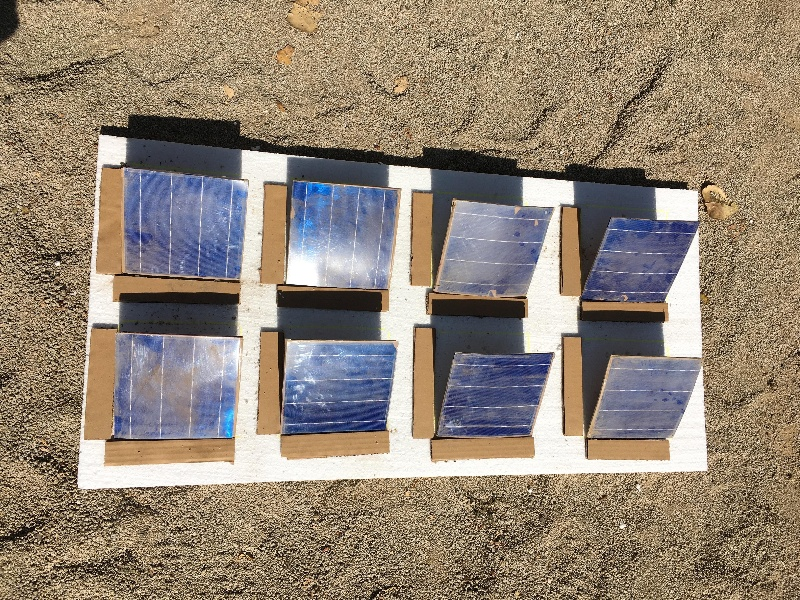dirty: (109, 329, 238, 439), (438, 200, 558, 297), (587, 359, 700, 438)
semi: (119, 170, 245, 284), (265, 338, 396, 430), (293, 180, 393, 288), (435, 351, 552, 439), (582, 217, 699, 299)
